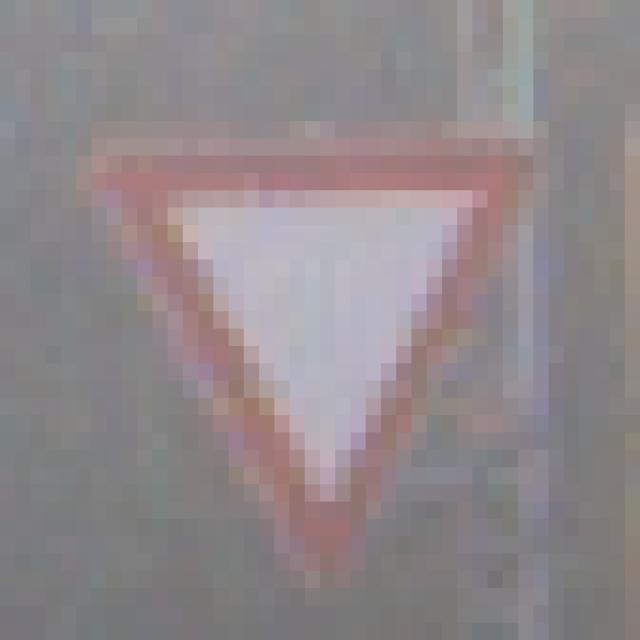Give Way: (92, 105, 565, 554)
